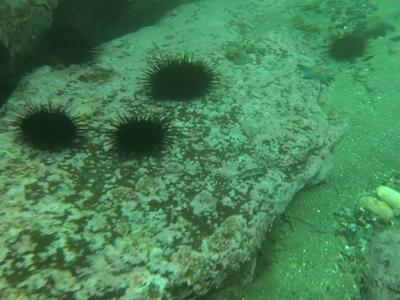urchin: (8, 97, 86, 154), (137, 52, 221, 102), (102, 111, 176, 159), (41, 28, 101, 70), (320, 33, 365, 61)
